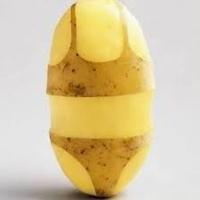biodegradable: (47, 0, 155, 197)
